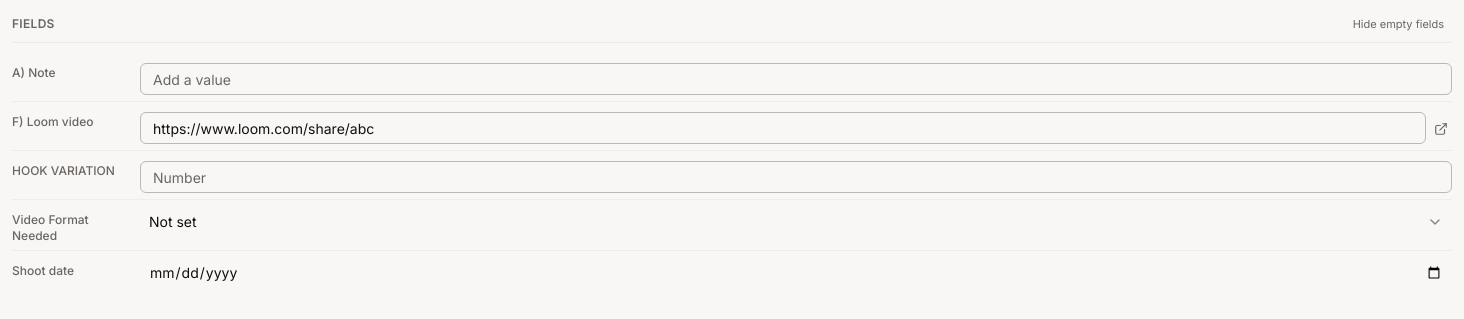
it: CustomFieldsSection › a link must be http(s); a saved link has an open icon
The image size is (1464, 319).
Replace the text in the field named "F) Loom video" with "javascript:alert(1)" at (783, 128), box [140,112,1426,144]
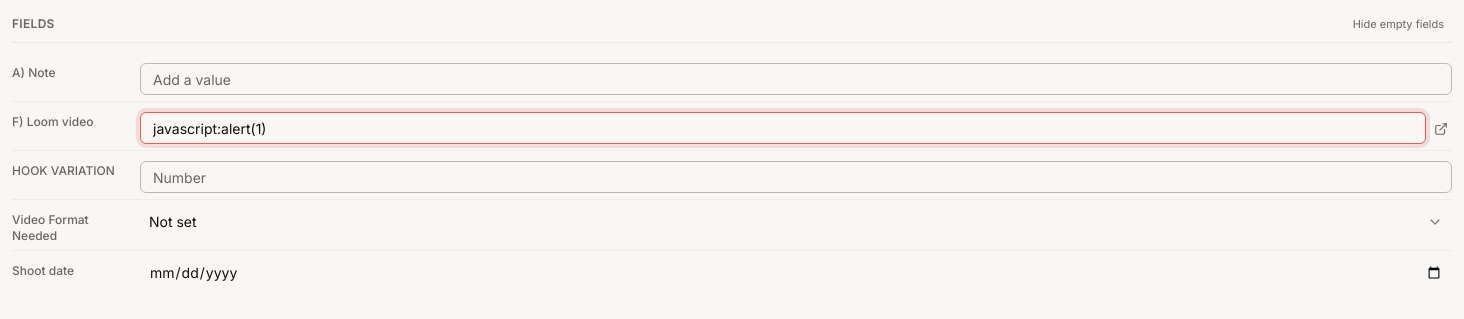
Leave the field named "F) Loom video", box [140,112,1426,144]
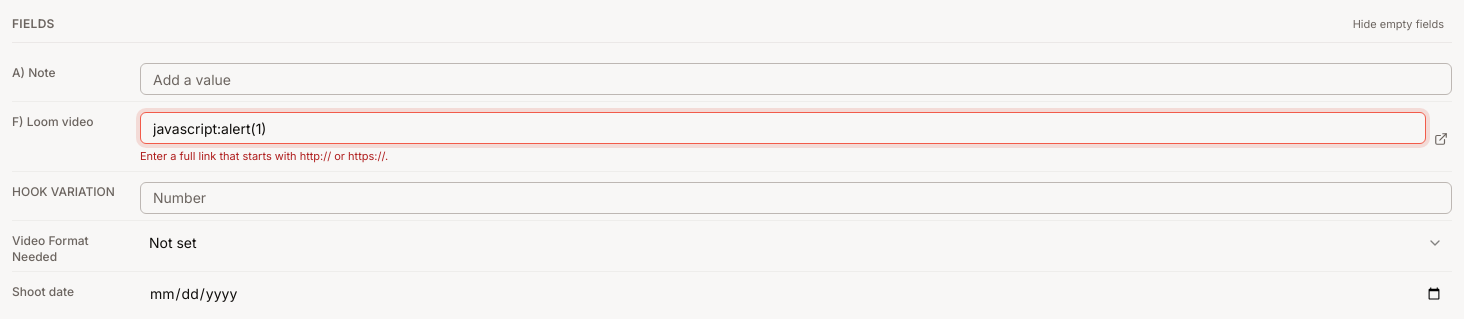
Check: the text "Enter a full link that starts with http:// or https://." is shown, box [140,149,388,163]
